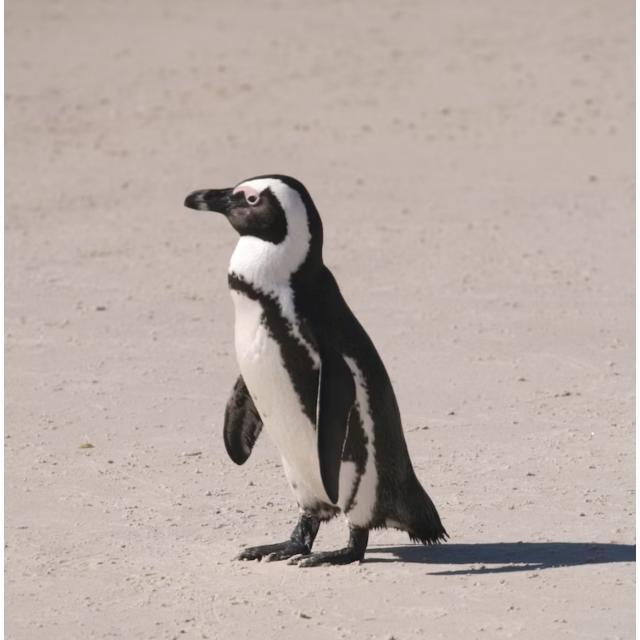penguin: (182, 173, 448, 568)
